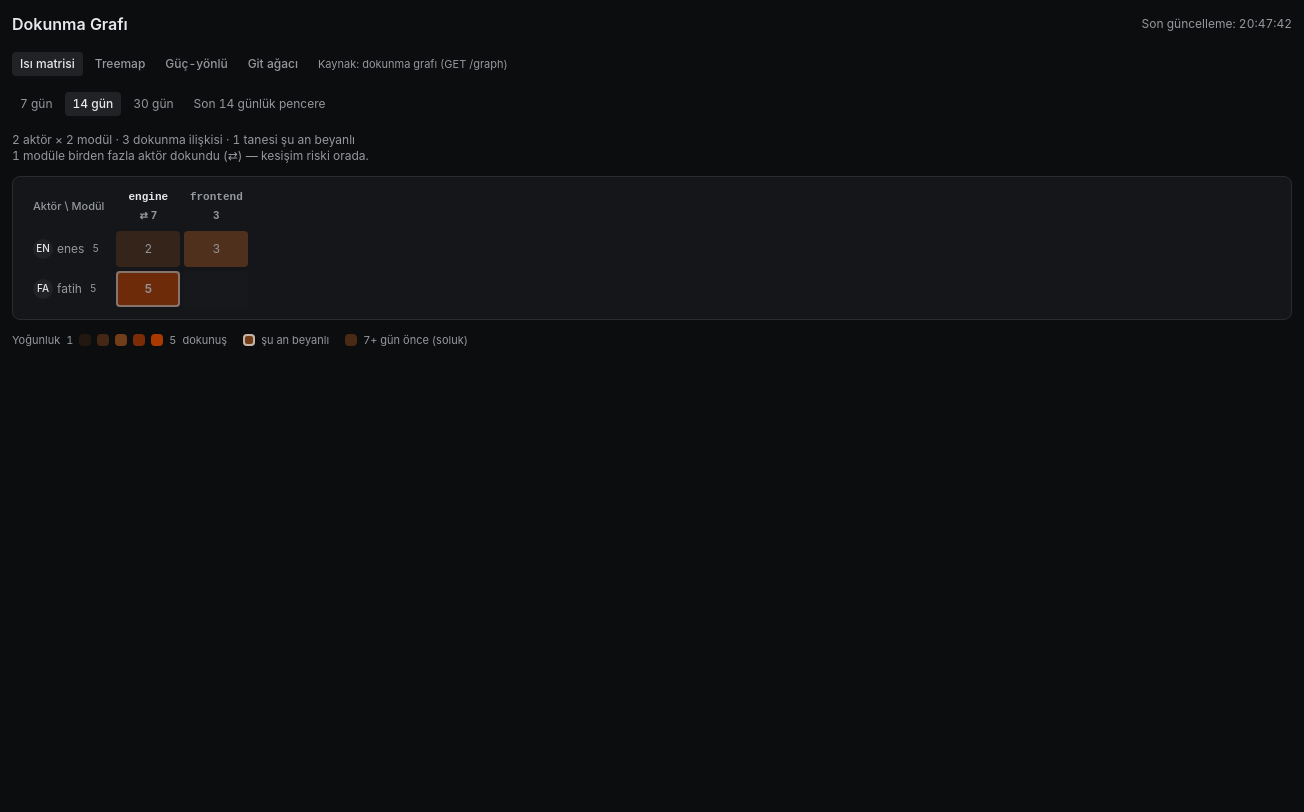
Test: GraphPage — görünüm modu seçici (#130) › Treemap sekmesine tıklayınca matris kalkar, treemap görünür
This screenshot has width=1304, height=812.
Click the tab "Treemap". click: (120, 64)
box: top-left (87, 52), bottom-right (153, 76)
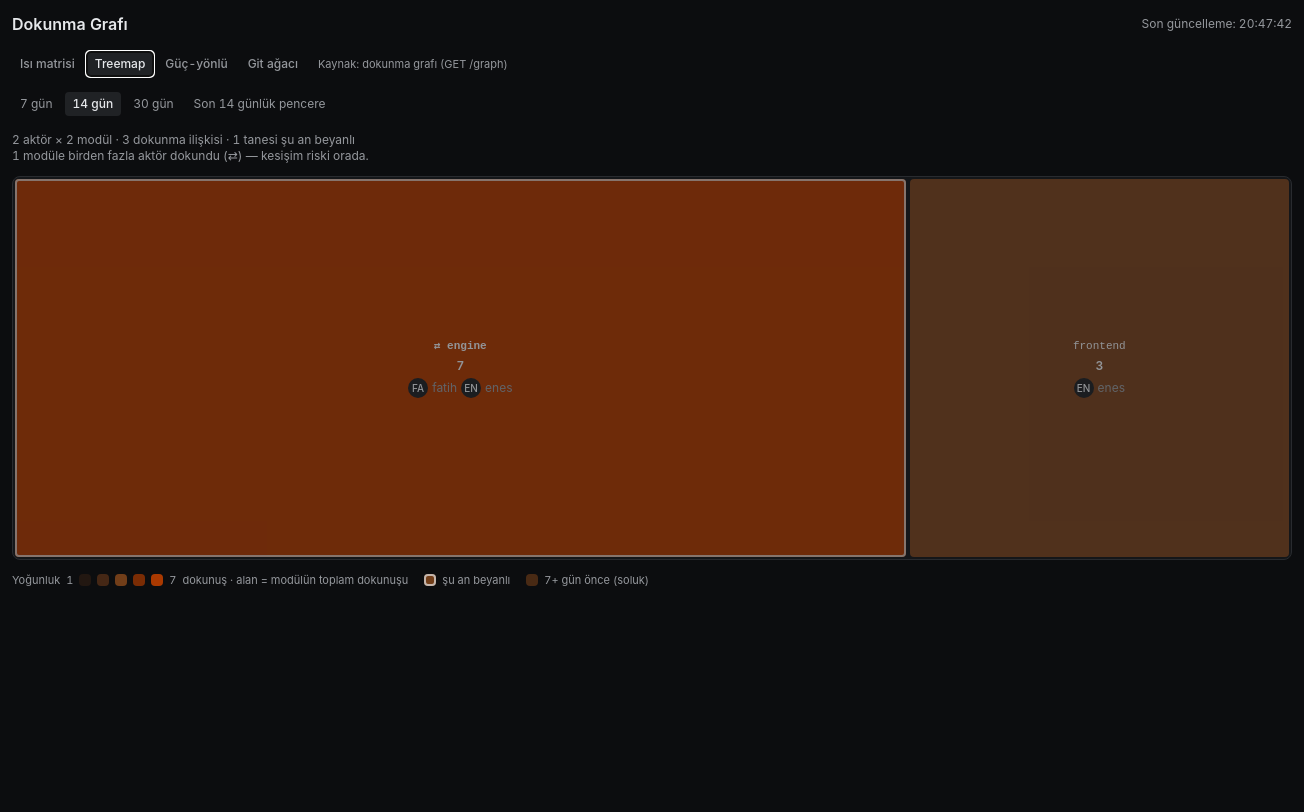
Expected: the table is gone
Expected: the element named "treemap" is shown, top-left (12, 176), bottom-right (1292, 560)
Expected: the button titled "engine: 7 dokunuş" is shown, top-left (13, 177), bottom-right (908, 559)
